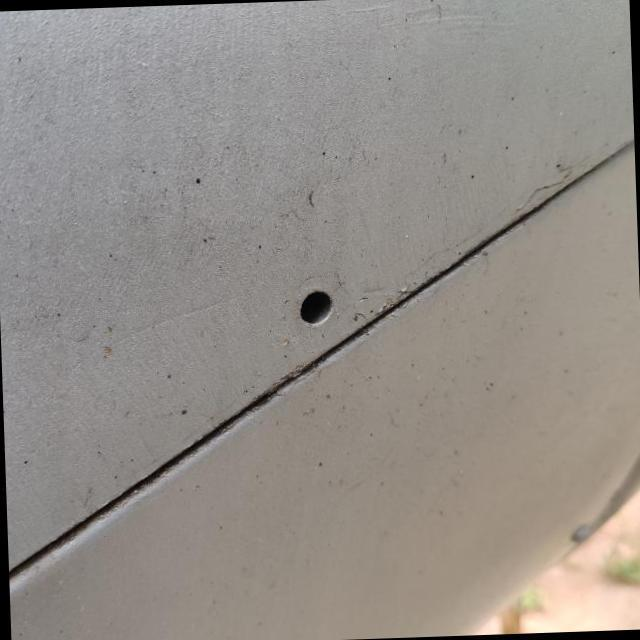Fastener Damage: (260, 246, 375, 360)
